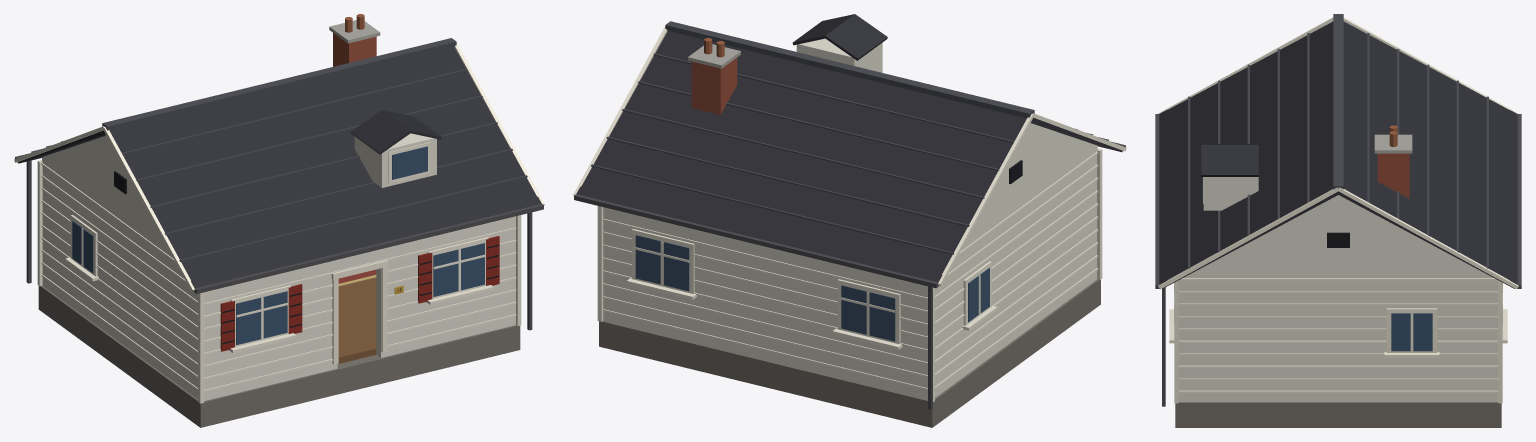
The model's file is house.e.glb.
The picture shows the model from 3 angles, left to right: view 1: azimuth 30°, elevation 25°; view 2: azimuth 150°, elevation 25°; view 3: azimuth 270°, elevation 25°; orthographic projection. The views are drawn at different scales.
Visible parts, largest first — view 1: roof-front, wall-left, foundation, wall-front1, wall-front-1, gable-1, ridge, floor, gutter1, wf2.5-glass, wf-2.5-glass, dormer (+34 smaller); view 2: roof-back, wall-back, wall-left, foundation, gable-1, ridge, gutter-1, wb-2.5-glass, wb2.5-glass, chimney, dormer-roof-l, dormer (+28 smaller); view 3: wall-right, roof-back, roof-front, gable1, foundation, ridge, dormer-roof-r, ws1-glass, dormer, chimney, barge1-1, barge11 (+30 smaller).
Part boxes in pixels (x1,y1,x2,y2): roof-front: (110, 47, 541, 288); wall-left: (46, 165, 196, 397); foundation: (38, 285, 520, 427); wall-front1: (376, 217, 515, 357); wall-front-1: (196, 260, 337, 400); gable-1: (42, 135, 172, 256); ridge: (102, 38, 456, 130); floor: (338, 277, 376, 363); gutter1: (194, 204, 543, 293); wf2.5-glass: (433, 243, 484, 296); wf-2.5-glass: (236, 291, 287, 344); dormer: (354, 133, 436, 187); roof-back: (576, 31, 1026, 282); wall-back: (603, 208, 936, 399); wall-left: (936, 153, 1092, 396); foundation: (599, 279, 1100, 427); gable-1: (962, 123, 1097, 248); ridge: (665, 21, 1034, 118); gutter-1: (574, 194, 938, 288); wb-2.5-glass: (841, 285, 895, 341); wb2.5-glass: (635, 235, 689, 291); chimney: (691, 57, 737, 114); dormer-roof-l: (824, 14, 887, 60); dormer: (796, 38, 882, 72); wall-right: (1187, 277, 1489, 401); roof-back: (1336, 21, 1517, 288); roof-front: (1159, 21, 1340, 288); gable1: (1185, 195, 1491, 276); foundation: (1175, 402, 1501, 427); ridge: (1333, 14, 1343, 189); dormer-roof-r: (1201, 145, 1258, 176); ws1-glass: (1391, 313, 1432, 351); dormer: (1203, 177, 1258, 210); chimney: (1377, 153, 1409, 198); barge1-1: (1337, 187, 1518, 289); barge11: (1158, 187, 1338, 289).
Bounding box in the file's own units: 8.92 × 6.48 × 7.98.
